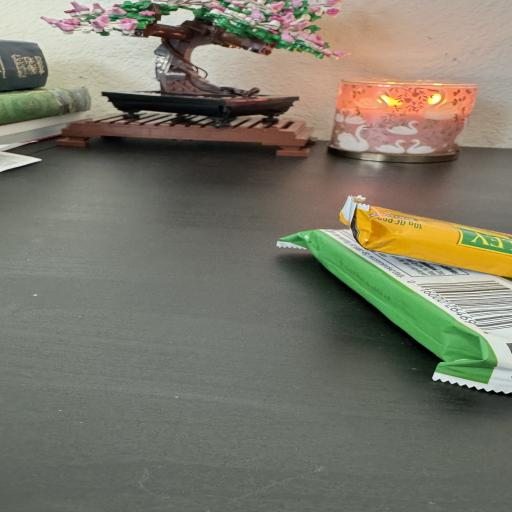granola: (278, 230, 511, 393), (340, 196, 511, 277)
